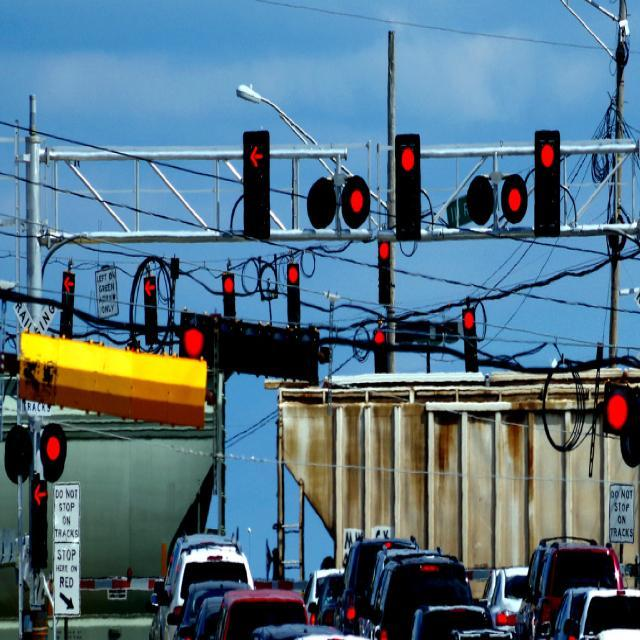traffic light: (389, 131, 426, 243), (240, 129, 276, 239), (528, 130, 566, 233), (27, 467, 54, 575), (139, 271, 166, 347), (456, 303, 483, 374), (56, 265, 80, 340), (373, 240, 399, 303), (283, 268, 307, 324), (219, 268, 236, 315)
